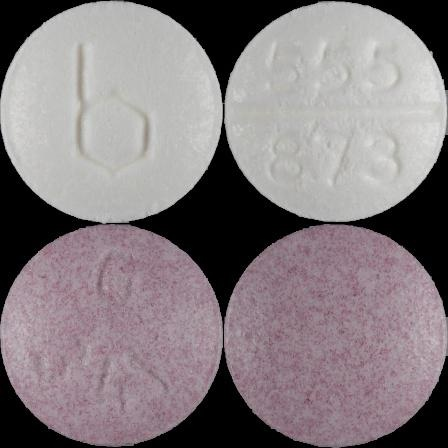66336-603: (0, 0, 224, 224)
